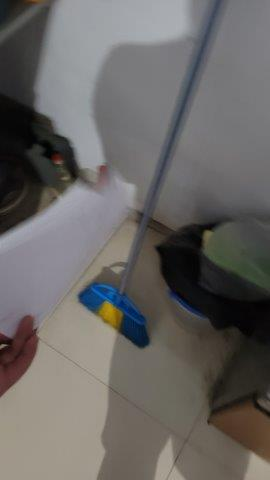kertas: (1, 180, 137, 342)
